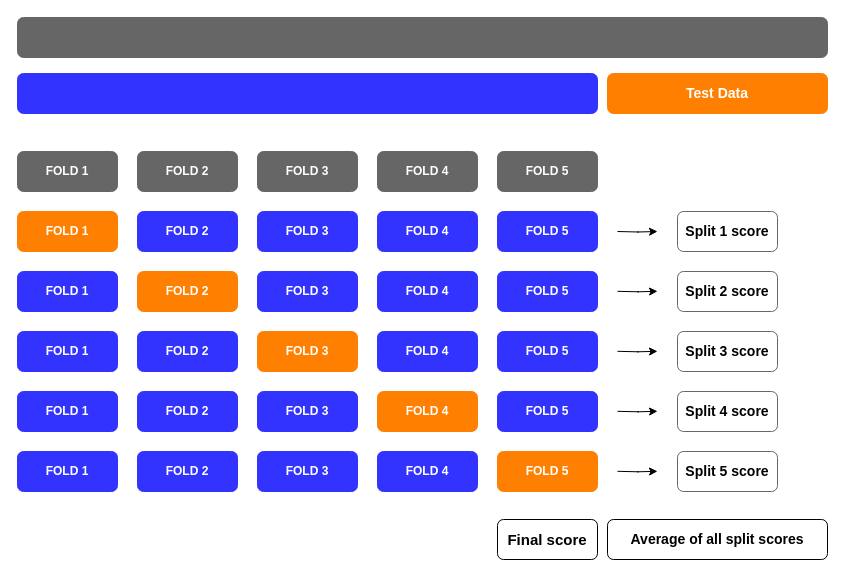
Image size: 845x577. Some labels were removed from this diagram. The shapes that lost their labels are listed below. From the top down, each one's centre as x and y in pixels, then its label:
At [422,37]: "All Data".
At [307,93]: "Training Data".
